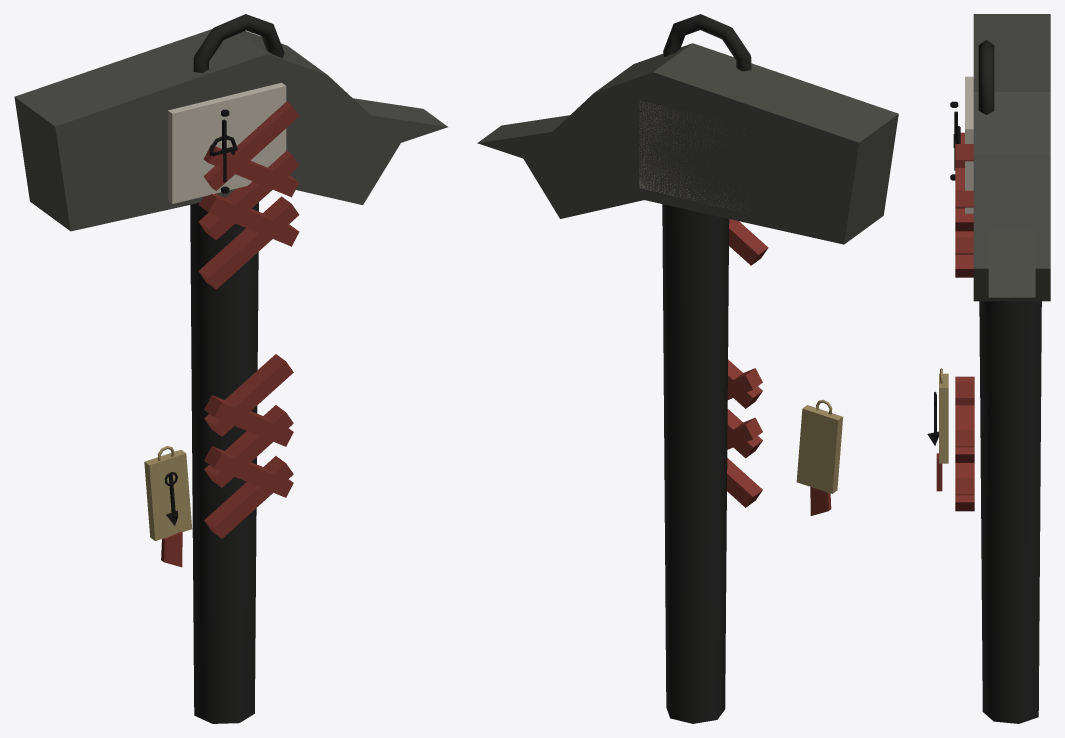
The model's file is fantasy-faceted-hammer-pick-v1.glb.
The picture shows the model from 3 angles, left to right: view 1: azimuth 30°, elevation 25°; view 2: azimuth 150°, elevation 25°; view 3: azimuth 270°, elevation 25°; orthographic projection. The views are drawn at different scales.
Visible parts, largest first — view 1: Hammer Pick; view 2: Hammer Pick; view 3: Hammer Pick.
Boxes of the visible parts, x1,y1,x2,y2 form: Hammer Pick: [14, 14, 447, 723]; Hammer Pick: [477, 14, 898, 723]; Hammer Pick: [927, 14, 1050, 723].
Bounding box in the file's own units: 2.04 × 3.43 × 0.5769.
